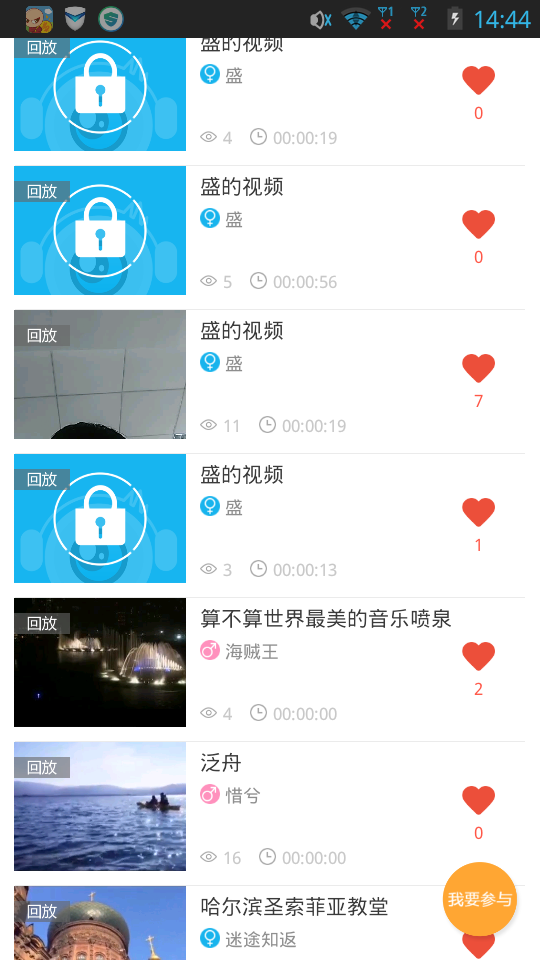imgbutton: (451, 630, 504, 679)
